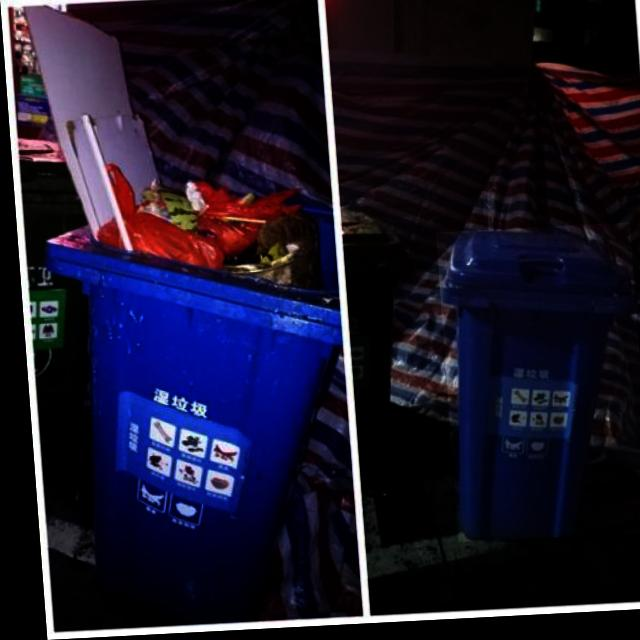garbage_bin: (432, 230, 640, 548)
overflow: (22, 0, 352, 631)
